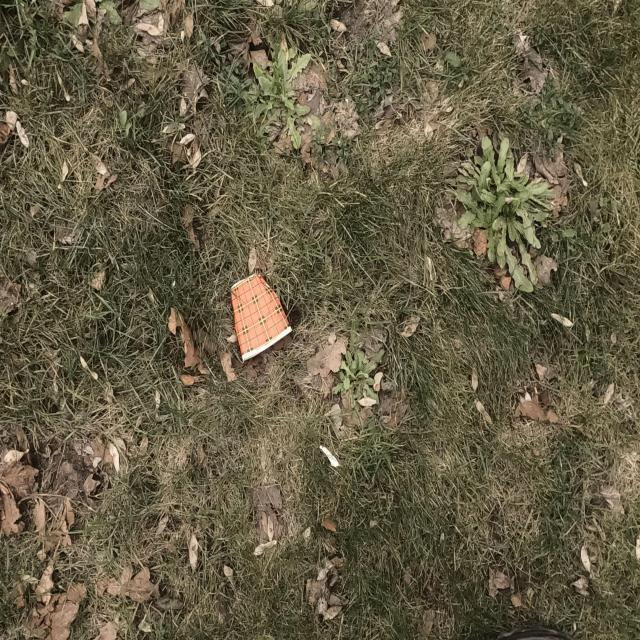Cup: (228, 268, 292, 360)
